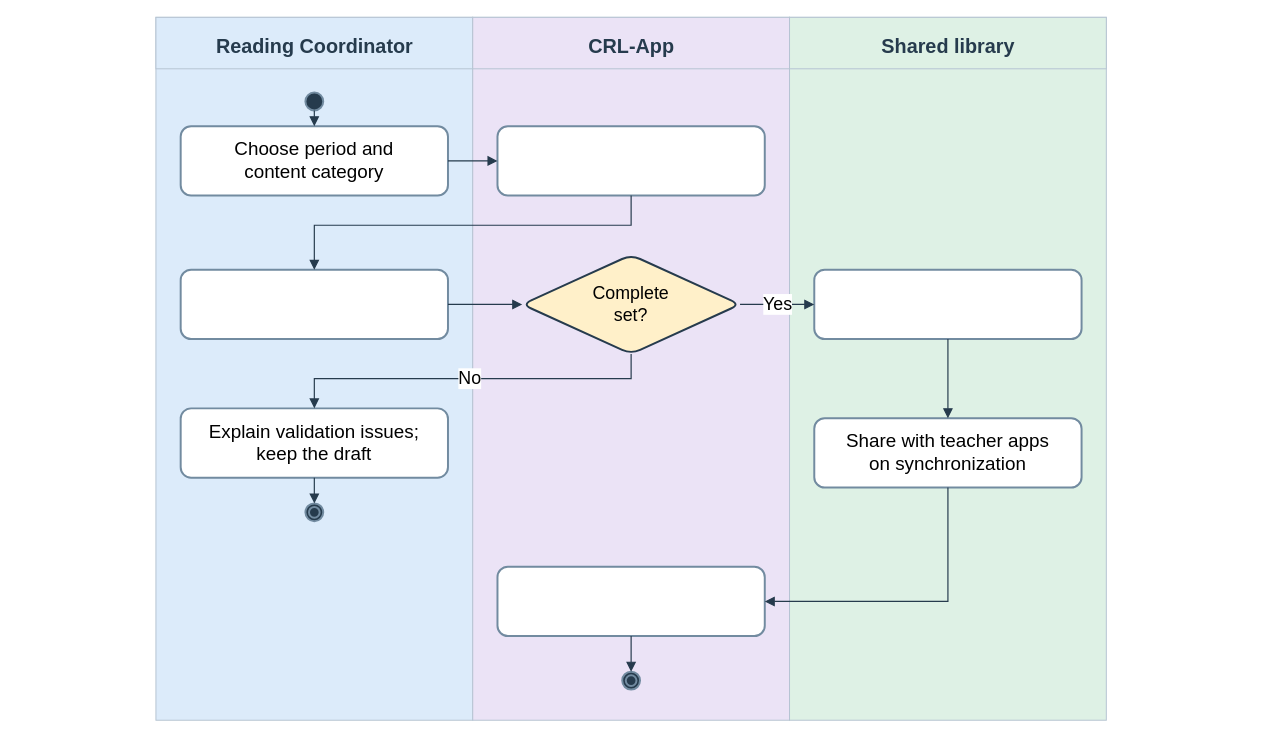
Some shapes in this 1261 by 738 pixel diagram are drawn without their labels. The box of each missing label's shape, as (x1, y1, x2, y2) in pixels:
Keep original version for running assessments: (496, 565, 765, 637)
Manage items and mode; set defaults when fixed: (179, 268, 448, 340)
Publish a new immutable version: (813, 268, 1082, 340)
Verify coordinator access; load current library: (496, 125, 765, 196)
